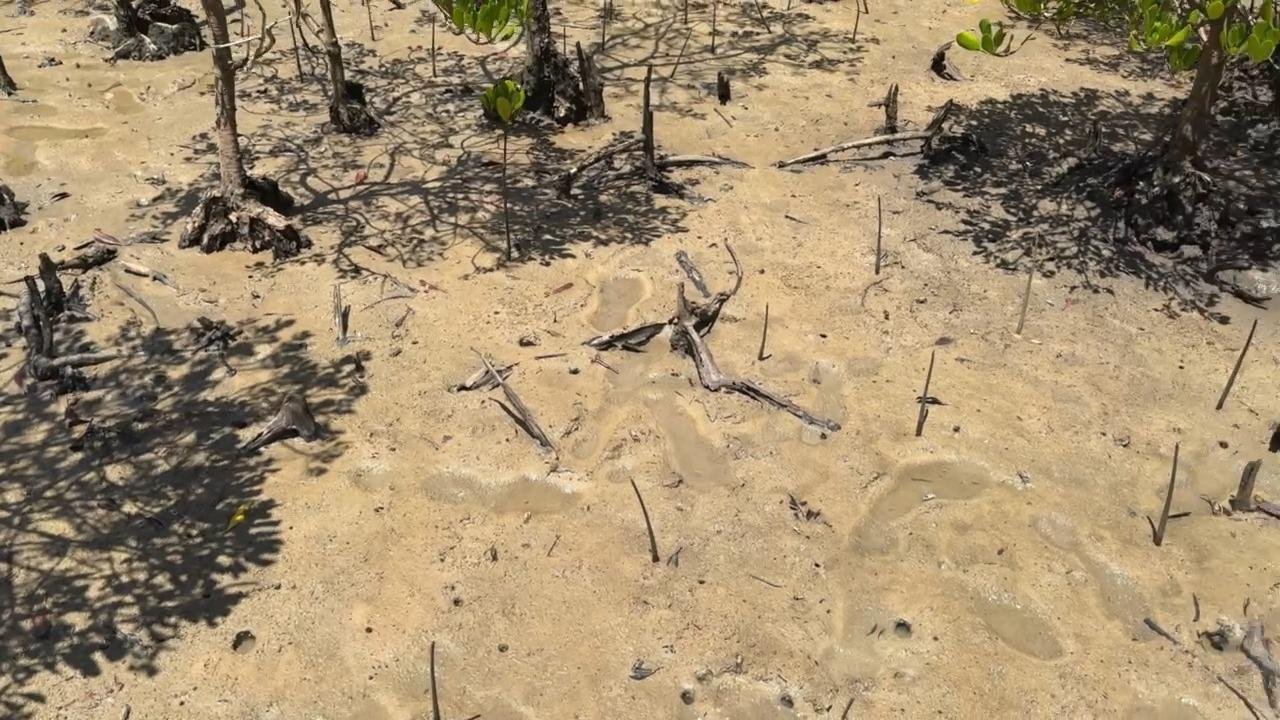Tree: (480, 80, 526, 261), (1216, 319, 1258, 410), (1153, 443, 1179, 547), (630, 478, 659, 563), (1017, 232, 1039, 334), (915, 350, 936, 436), (289, 12, 304, 83), (670, 31, 691, 78), (757, 304, 770, 360), (431, 641, 440, 720), (874, 195, 882, 275), (755, 0, 770, 33), (431, 16, 437, 78), (852, 0, 860, 43), (368, 0, 376, 40), (711, 6, 717, 52), (602, 0, 607, 50), (684, 0, 690, 22), (863, 0, 870, 13), (786, 0, 792, 10)
